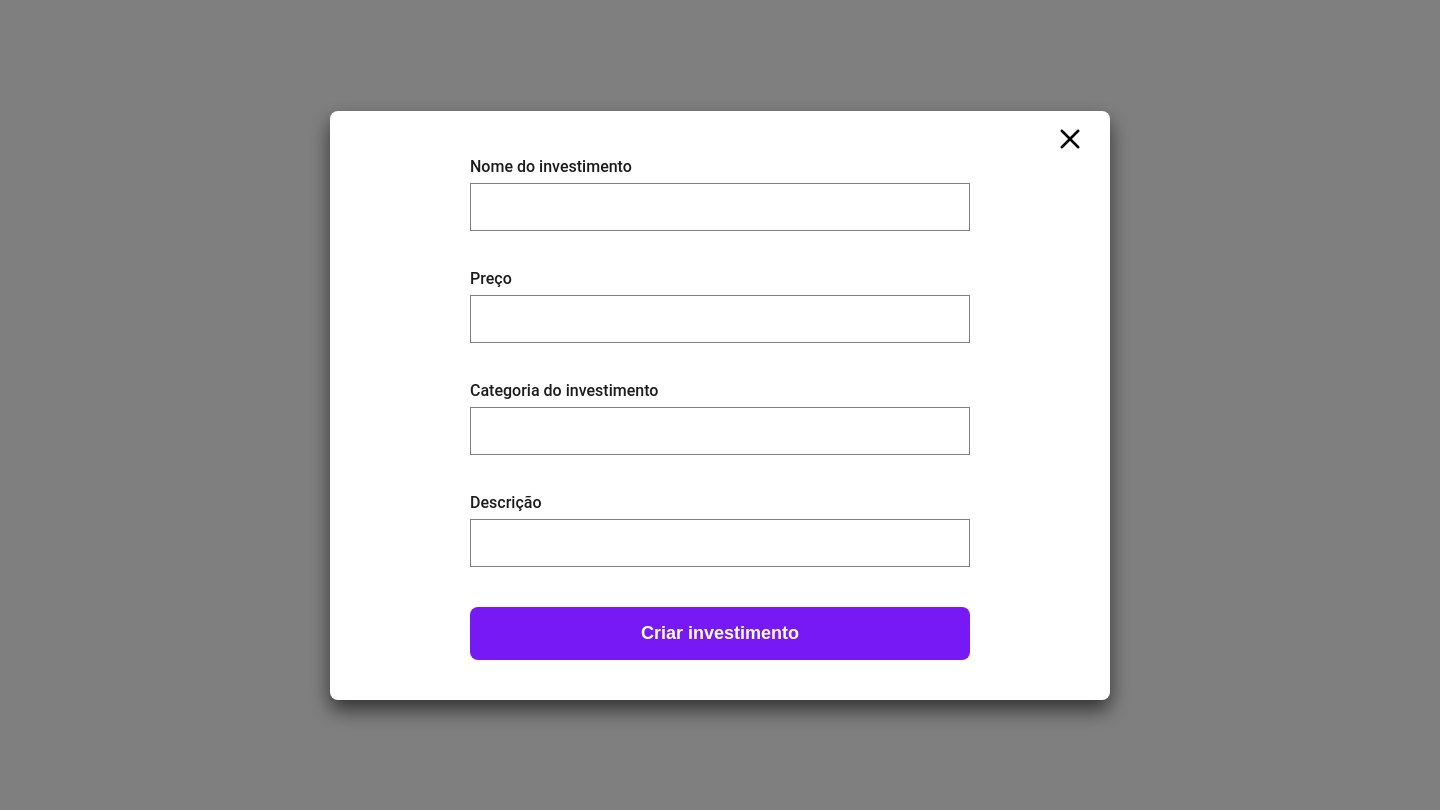
CreateProductCard Component › should display error messages for invalid inputs
Click the button "Criar investimento" at [720, 633], box [470, 606, 970, 660]
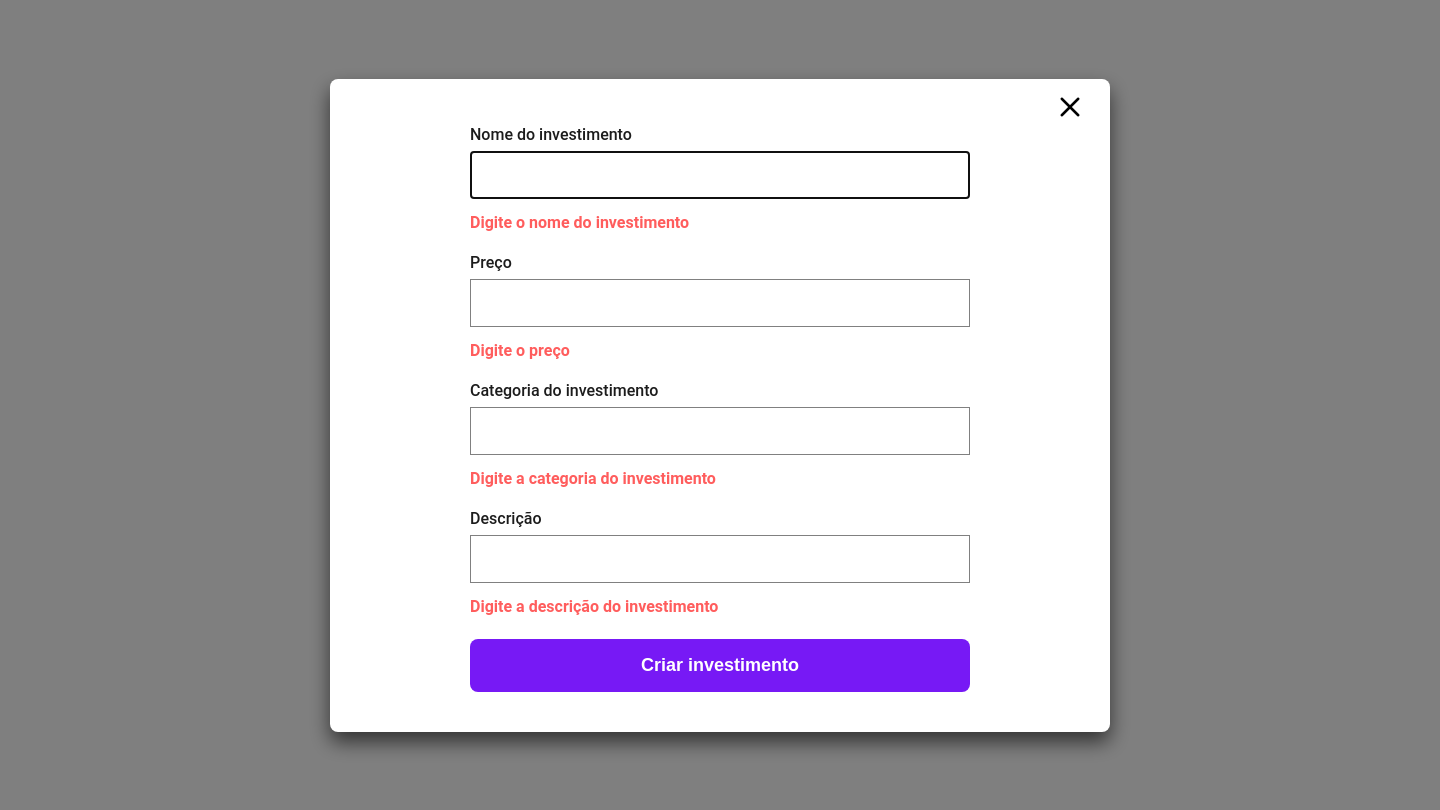
Now the text "Digite o nome do investimento" is shown, box [470, 212, 689, 232]
Now the text "Digite o preço" is shown, box [470, 340, 570, 360]
Now the text "Digite a categoria do investimento" is shown, box [470, 468, 716, 488]
